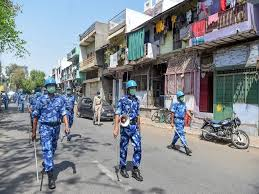mask: (42, 83, 56, 97), (126, 84, 138, 97), (176, 94, 186, 102), (65, 87, 71, 94), (95, 89, 100, 95)
